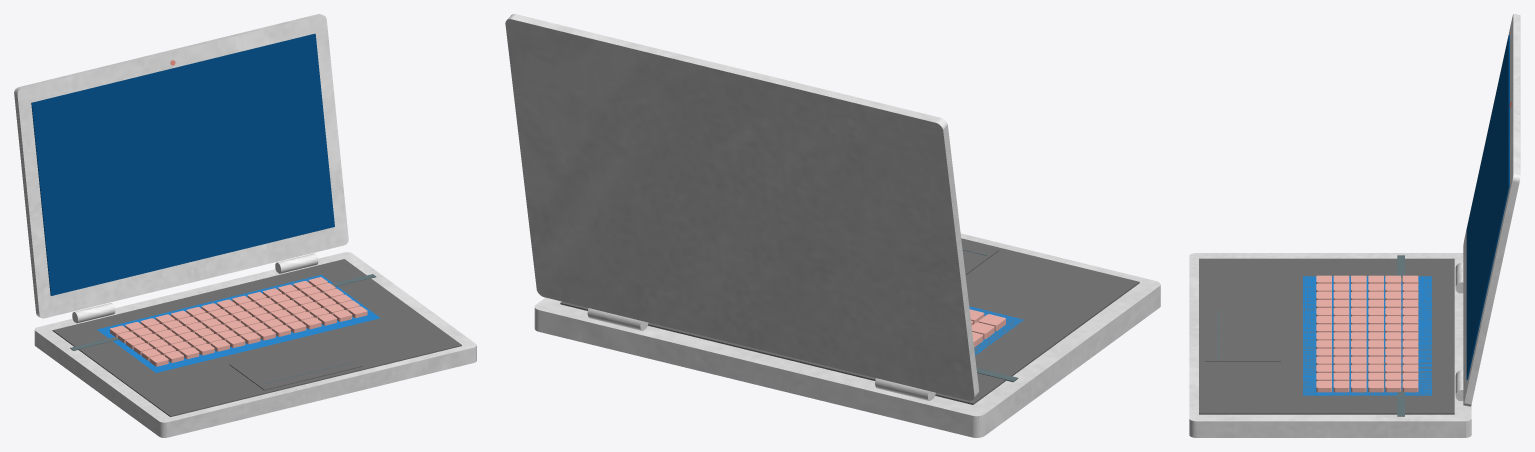
File: Technology_Laptop__0046.glb
3 views of the same model, side by side, from view 1: azimuth 30°, elevation 25°; view 2: azimuth 150°, elevation 25°; view 3: azimuth 270°, elevation 25° (orthographic). The views are drawn at different scales.
Visible parts, largest first — view 1: screen_lid::shell_family__thin_aluminum__display_panel, screen_lid::shell_family__thin_aluminum__lid_shell, base_chassis::shell_family__thin_aluminum__palm_deck_skin, base_chassis::shell_family__thin_aluminum__lower_shell, pointing_surface::pointing_system__integrated_clickpad__pad, base_chassis::shell_family__thin_aluminum__keyboard_well_bez, base_chassis::hinge_style__dual_side_barrels__base_barrel_1, base_chassis::hinge_style__dual_side_barrels__base_barrel_0; view 2: screen_lid::shell_family__thin_aluminum__lid_shell, base_chassis::shell_family__thin_aluminum__lower_shell, base_chassis::shell_family__thin_aluminum__palm_deck_skin, pointing_surface::pointing_system__integrated_clickpad__pad, base_chassis::hinge_style__dual_side_barrels__base_barrel_0, base_chassis::hinge_style__dual_side_barrels__base_barrel_1, base_chassis::shell_family__thin_aluminum__keyboard_well_bez; view 3: base_chassis::shell_family__thin_aluminum__palm_deck_skin, base_chassis::shell_family__thin_aluminum__lower_shell, screen_lid::shell_family__thin_aluminum__display_panel, base_chassis::shell_family__thin_aluminum__keyboard_well_bez, screen_lid::shell_family__thin_aluminum__lid_shell, pointing_surface::pointing_system__integrated_clickpad__pad.
Boxes of the visible parts, x1,y1,x2,y2 form: screen_lid::shell_family__thin_aluminum__display_panel: [31, 33, 334, 295]; screen_lid::shell_family__thin_aluminum__lid_shell: [14, 14, 348, 318]; base_chassis::shell_family__thin_aluminum__palm_deck_skin: [52, 259, 461, 416]; base_chassis::shell_family__thin_aluminum__lower_shell: [34, 252, 476, 437]; pointing_surface::pointing_system__integrated_clickpad__pad: [229, 340, 362, 390]; base_chassis::shell_family__thin_aluminum__keyboard_well_bez: [97, 274, 380, 372]; base_chassis::hinge_style__dual_side_barrels__base_barrel_1: [275, 253, 318, 273]; base_chassis::hinge_style__dual_side_barrels__base_barrel_0: [72, 303, 115, 323]; screen_lid::shell_family__thin_aluminum__lid_shell: [505, 14, 979, 400]; base_chassis::shell_family__thin_aluminum__lower_shell: [534, 233, 1160, 437]; base_chassis::shell_family__thin_aluminum__palm_deck_skin: [560, 238, 1139, 404]; pointing_surface::pointing_system__integrated_clickpad__pad: [961, 241, 998, 274]; base_chassis::hinge_style__dual_side_barrels__base_barrel_0: [875, 378, 935, 400]; base_chassis::hinge_style__dual_side_barrels__base_barrel_1: [587, 308, 648, 330]; base_chassis::shell_family__thin_aluminum__keyboard_well_bez: [969, 306, 1023, 354]; base_chassis::shell_family__thin_aluminum__palm_deck_skin: [1199, 258, 1454, 414]; base_chassis::shell_family__thin_aluminum__lower_shell: [1189, 253, 1471, 437]; screen_lid::shell_family__thin_aluminum__display_panel: [1466, 35, 1509, 379]; base_chassis::shell_family__thin_aluminum__keyboard_well_bez: [1303, 276, 1431, 395]; screen_lid::shell_family__thin_aluminum__lid_shell: [1463, 14, 1520, 406]; pointing_surface::pointing_system__integrated_clickpad__pad: [1204, 309, 1280, 361].
Size of the model in its own units: 0.3235 by 0.2361 by 0.2694.
Materials: 8 (4 with a texture image).
